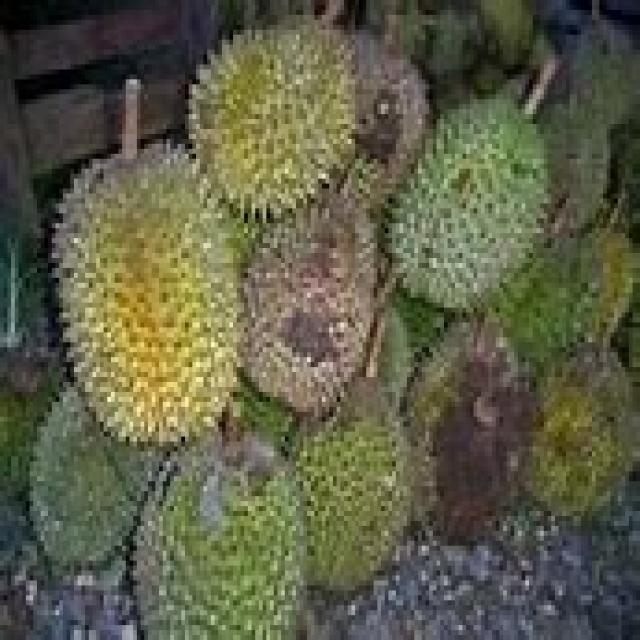defective: (241, 196, 380, 417), (409, 319, 534, 541)
mature: (55, 144, 249, 445), (189, 22, 355, 222)
